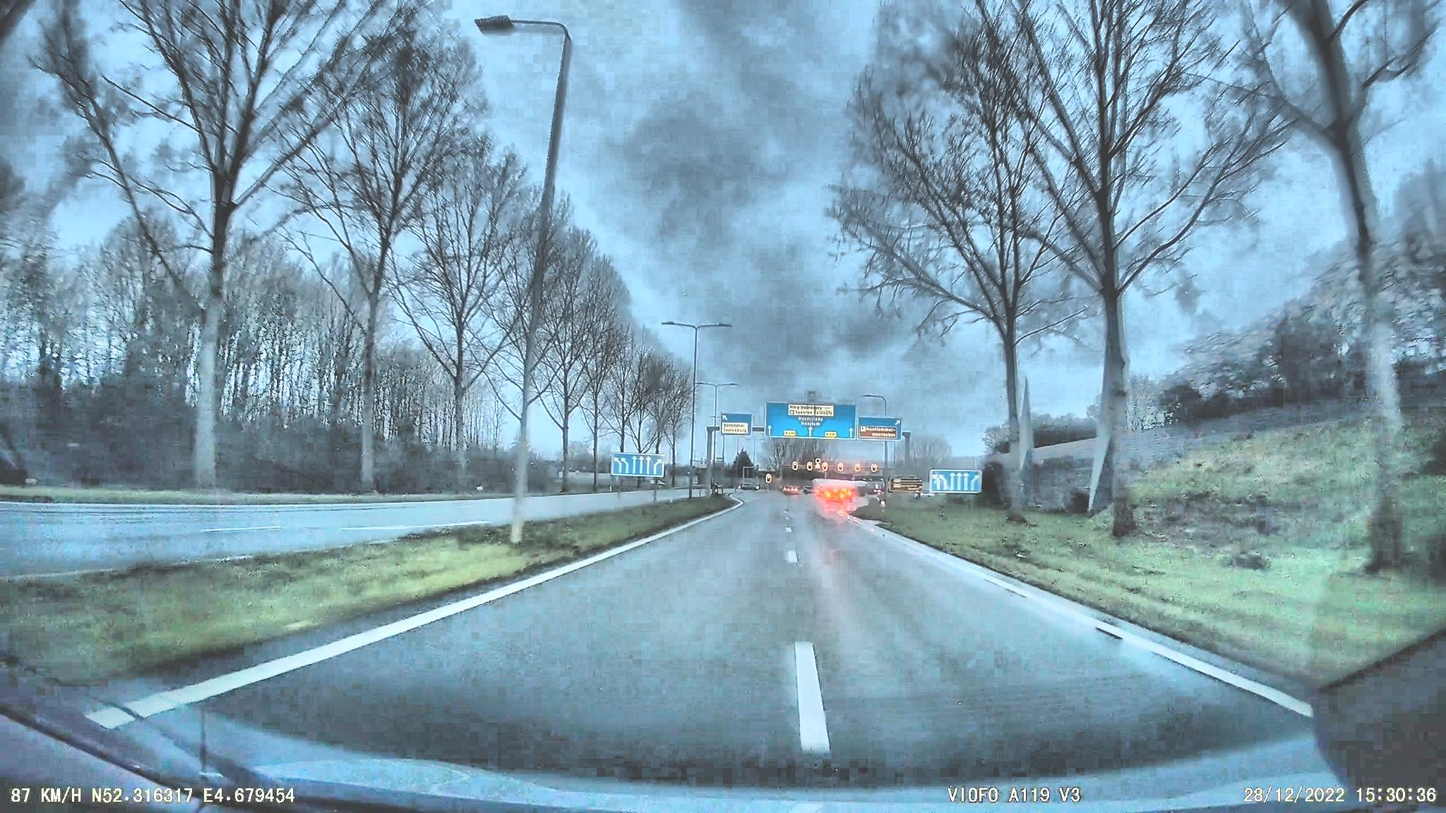Roads: (12, 493, 1446, 813)
